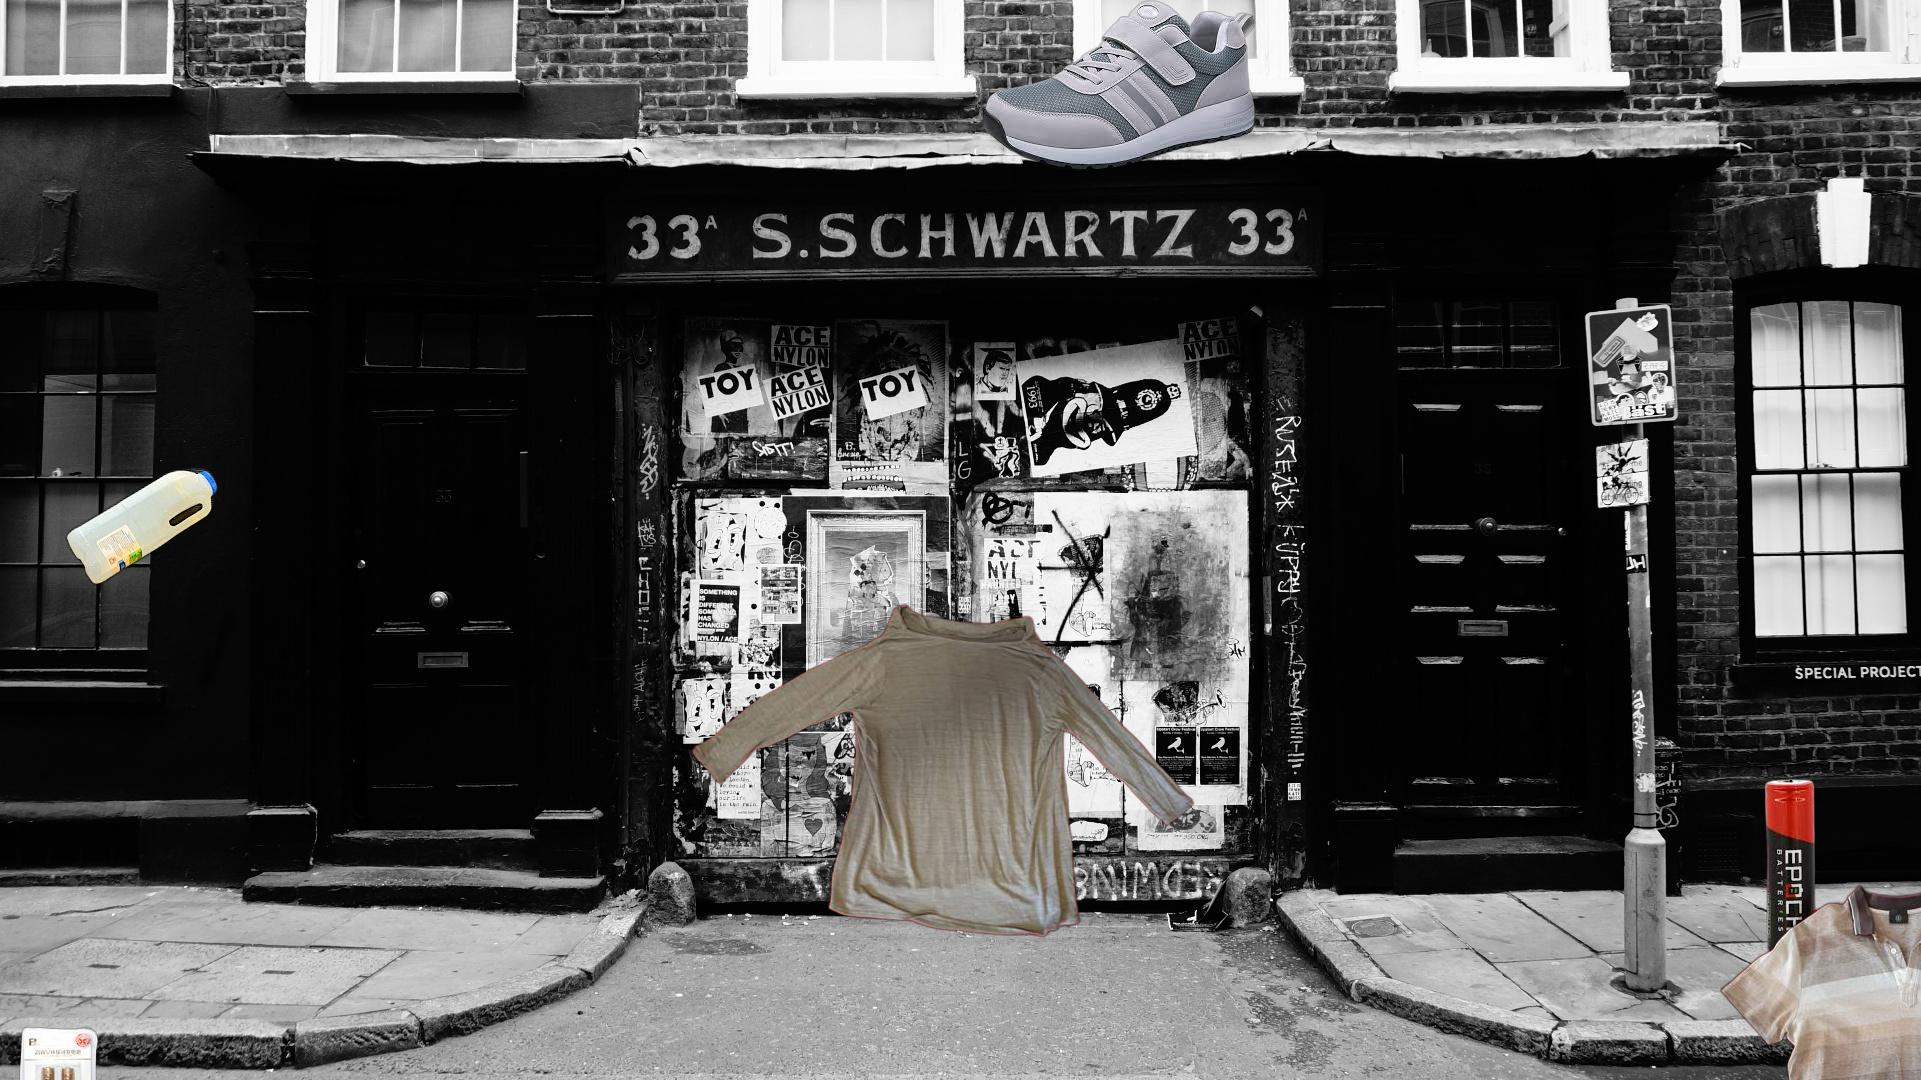battery: (1763, 777, 1921, 963), (17, 1025, 102, 1080)
clothes: (686, 603, 1199, 942), (1716, 878, 1921, 1080)
plastic-bottles: (61, 462, 222, 589)
shoes: (979, 0, 1257, 174)
